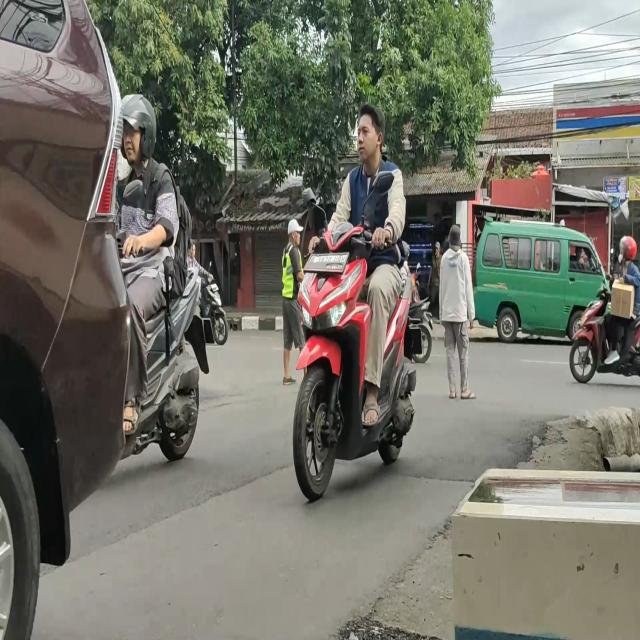helmet: (120, 94, 155, 157), (620, 238, 634, 261)
no-helmet: (354, 105, 386, 155)
